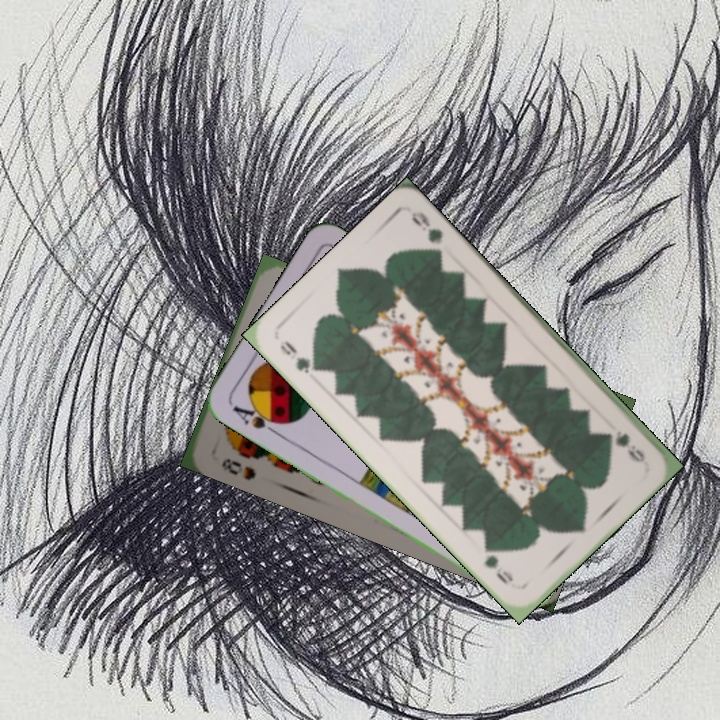G9: (276, 336, 323, 377), (605, 426, 648, 465)
S8: (217, 454, 259, 483)
SA: (228, 400, 286, 437)
